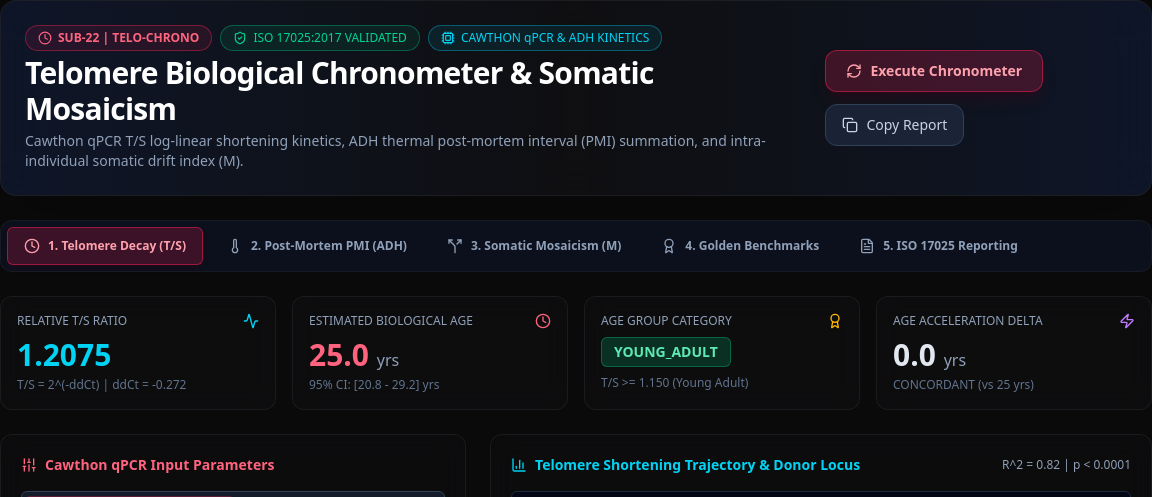
Pillar 4 Telomere Chronometer & Epigenetic PMI Biocomputation › Component Rendering & UI Interactions › falls back to local model gracefully on API network failure
Click the button "Execute Chronometer" at (934, 71), box [826,50,1043,92]
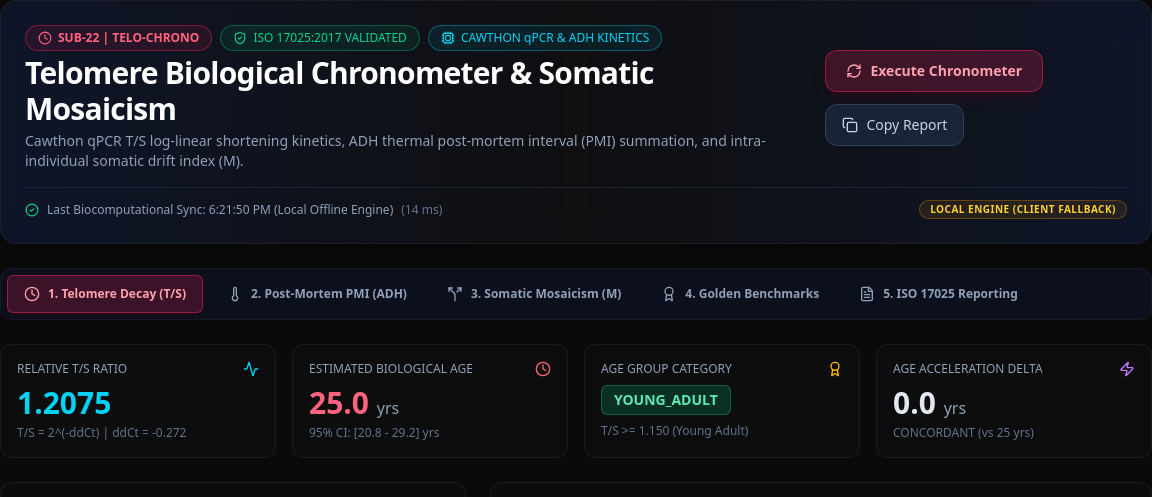
Expected: the text "Local Engine (Client Fallback)" is shown, [919,200,1127,219]
